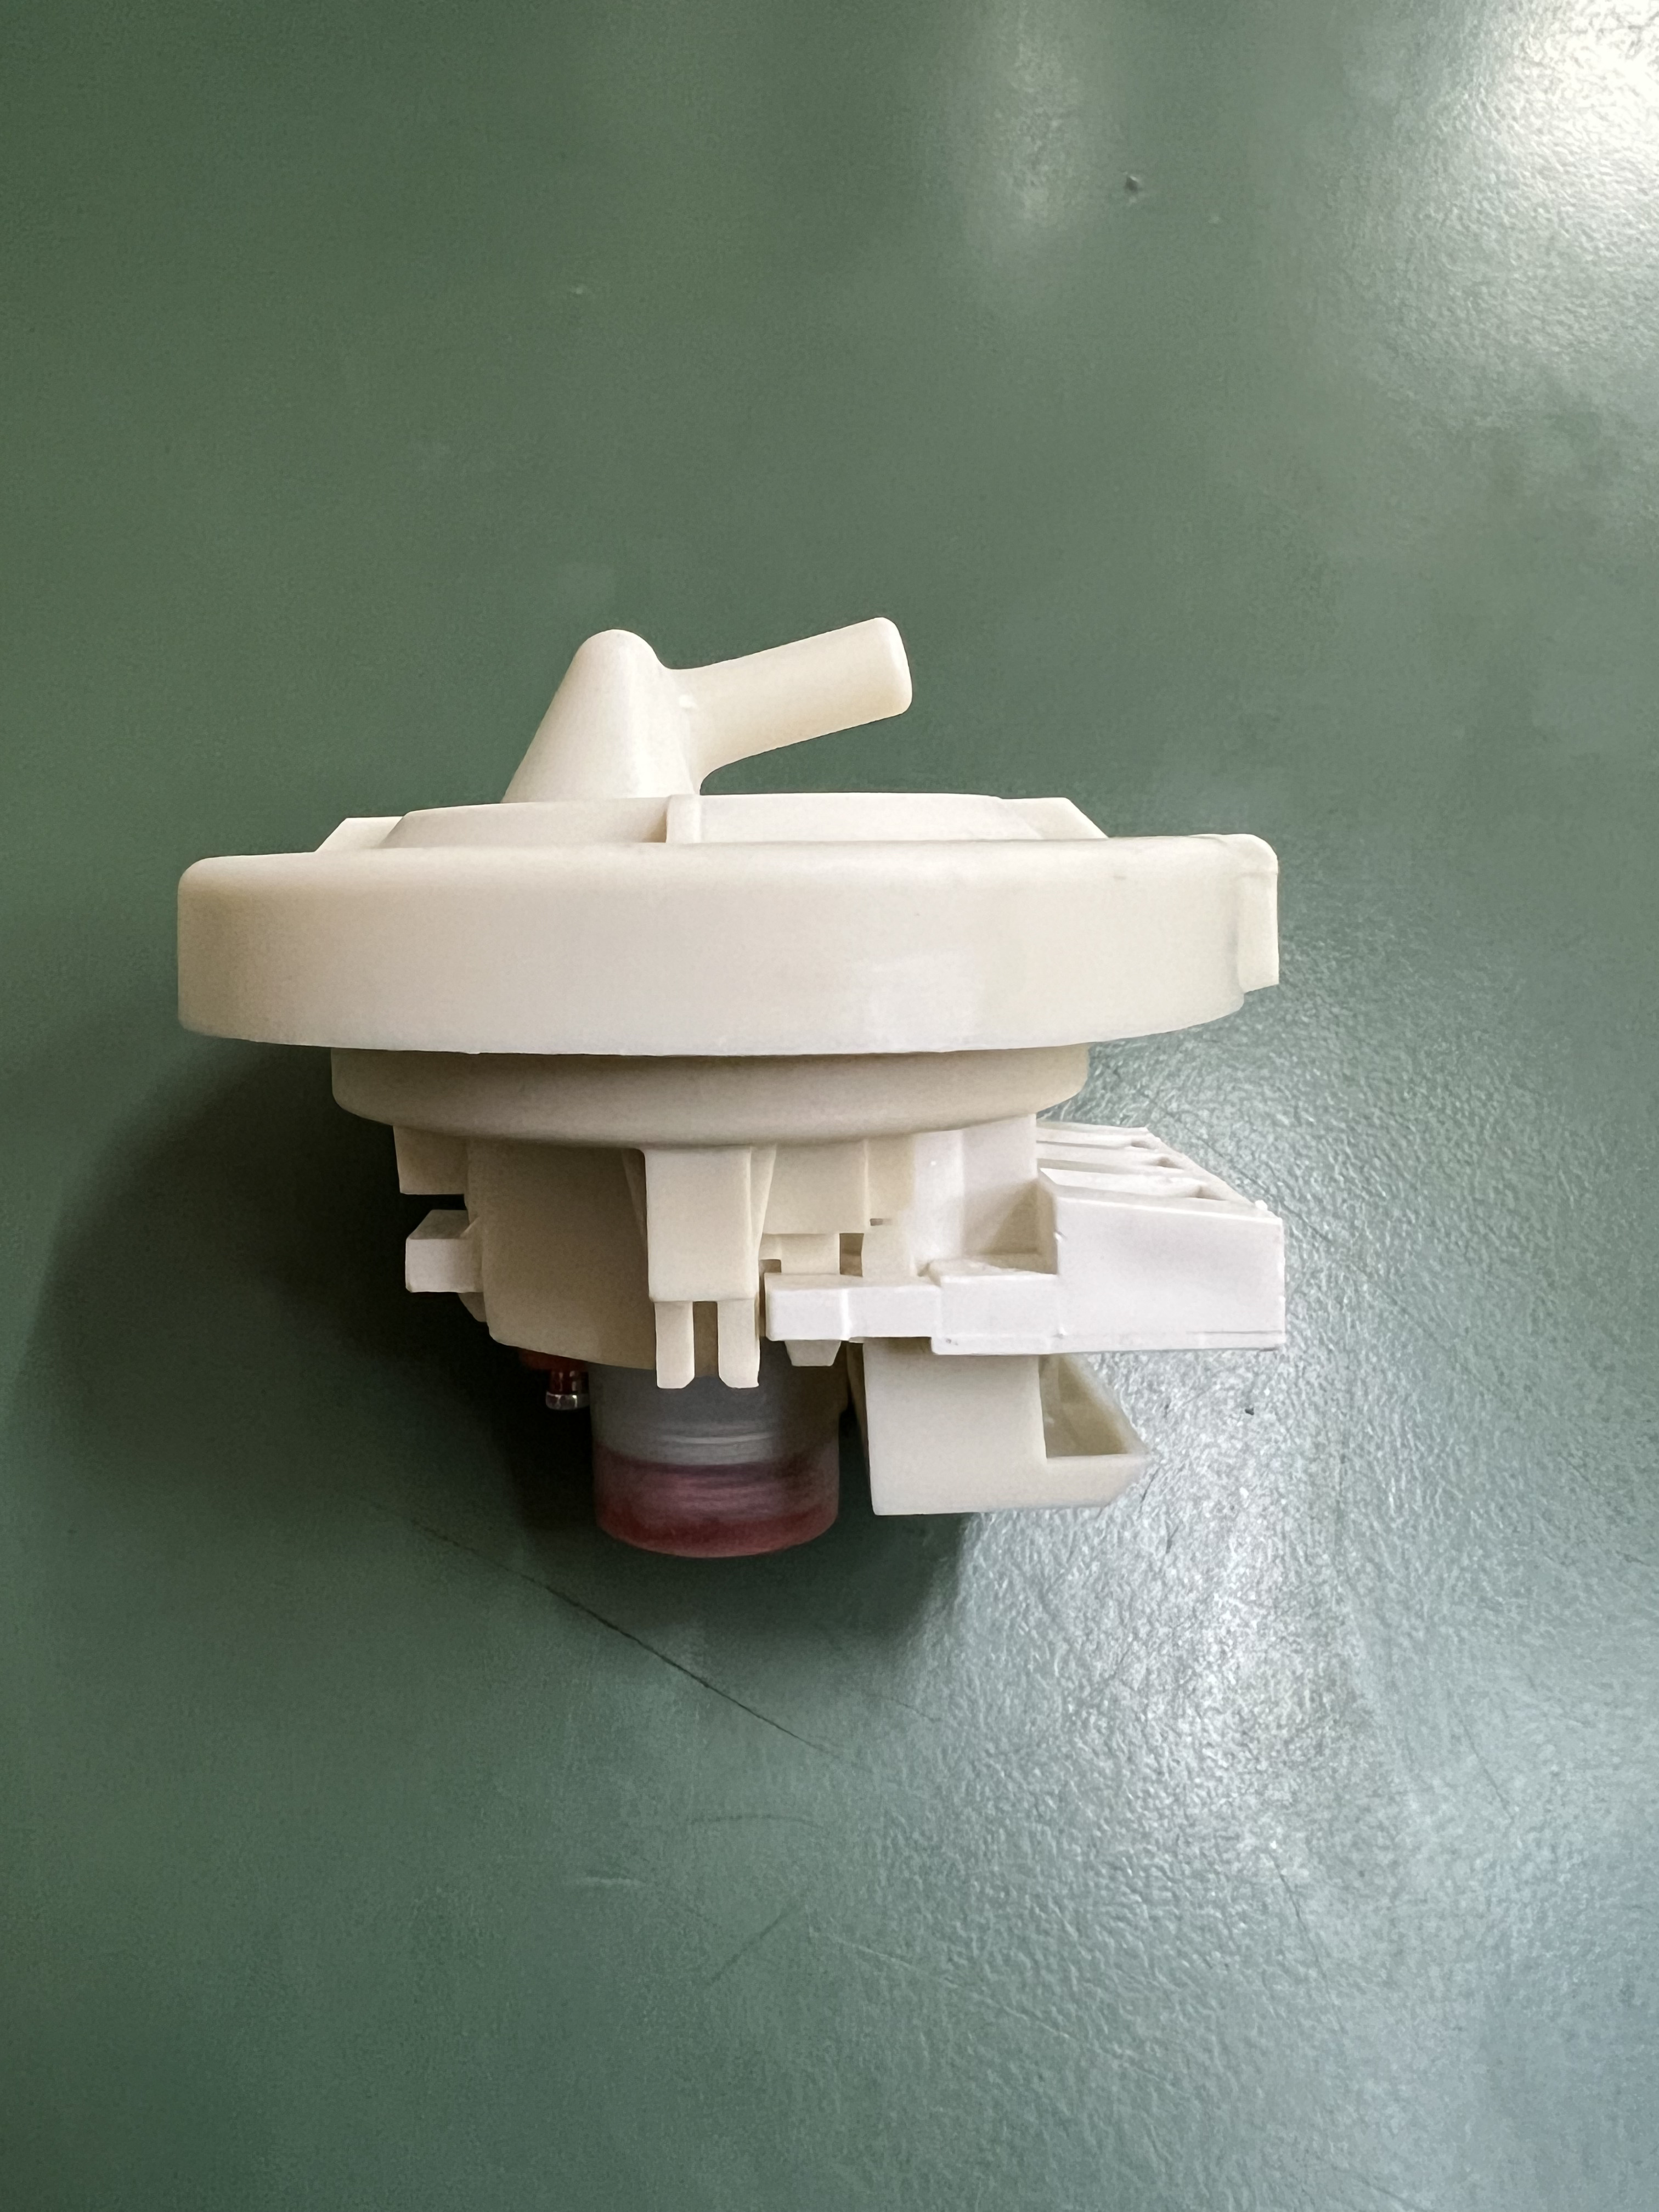pressure_sensor: (162, 601, 1368, 1571)
